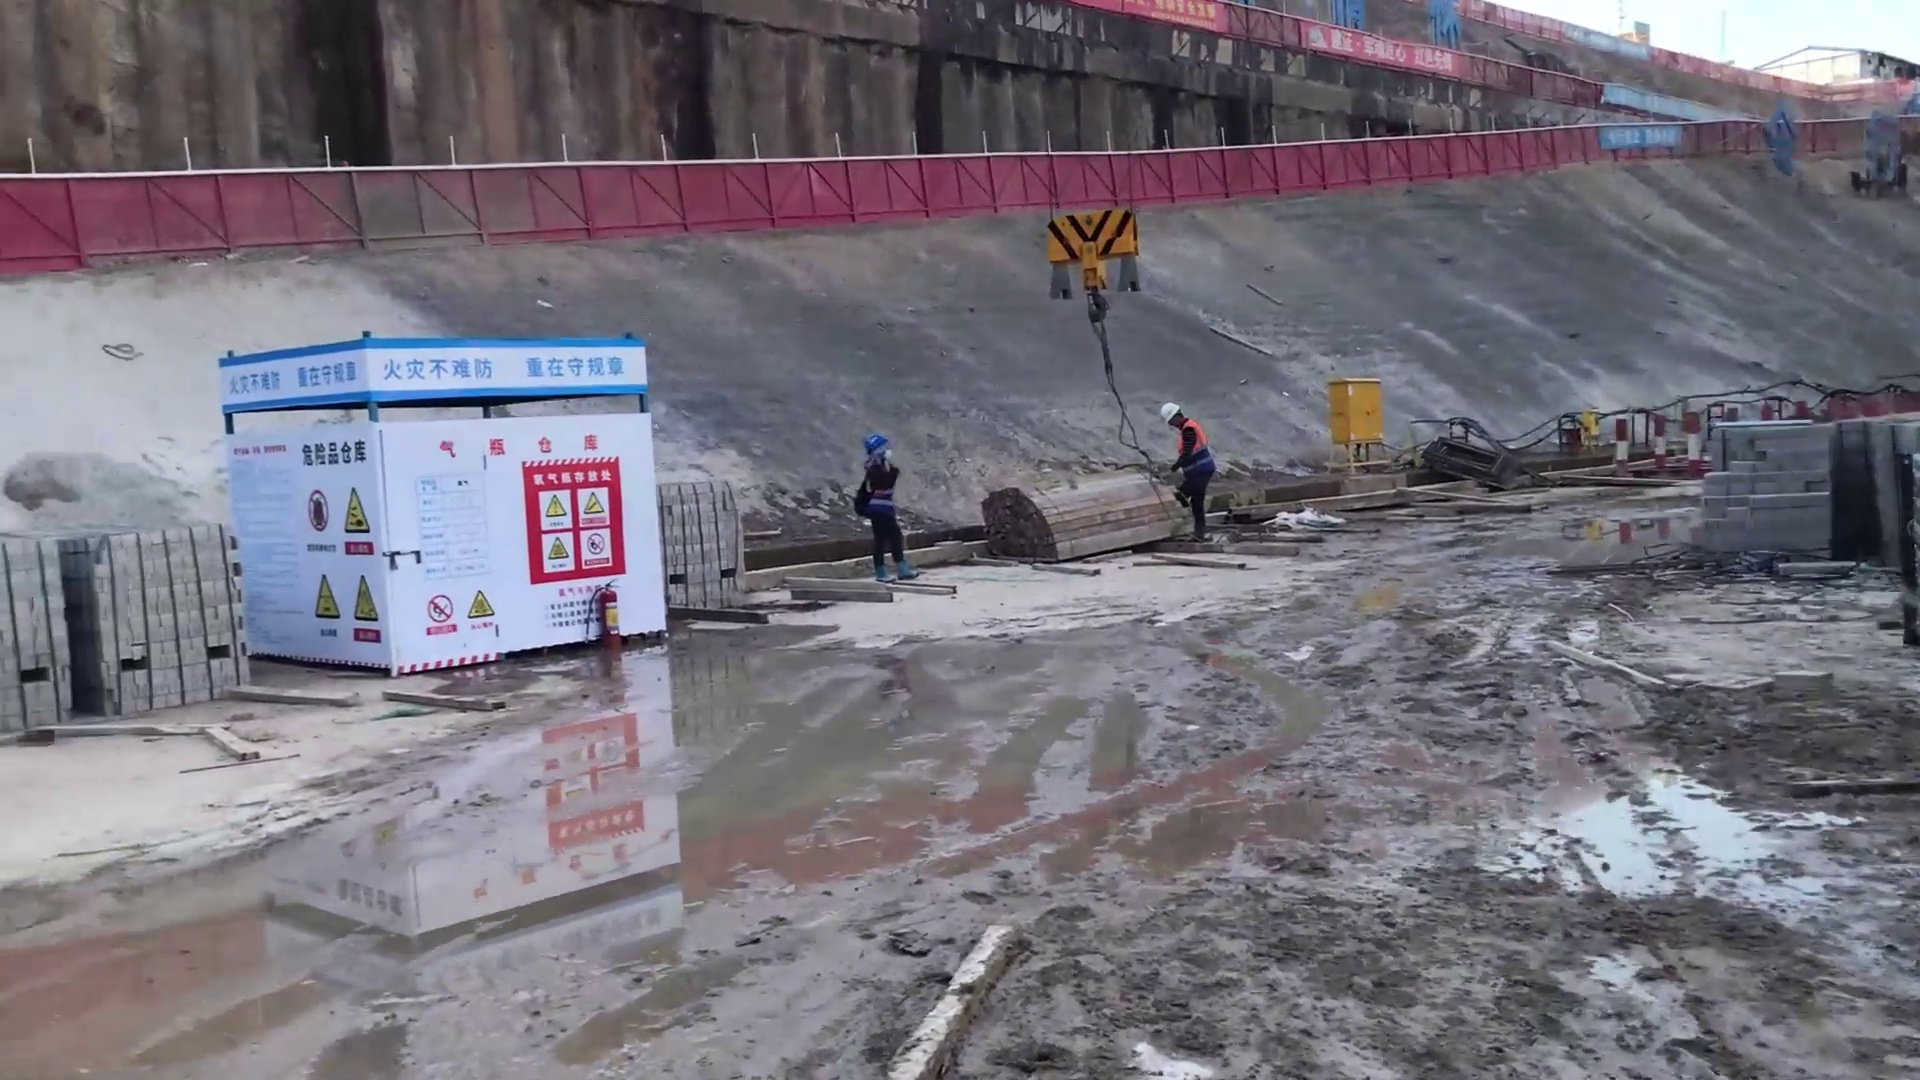brick: (10, 496, 259, 712), (1674, 392, 1920, 564), (652, 474, 754, 619)
ebox: (1326, 380, 1382, 441)
fence: (14, 145, 1543, 242)
helmet: (1156, 398, 1185, 425), (863, 429, 886, 455)
hook: (1041, 207, 1147, 298)
person: (850, 432, 922, 588), (1150, 402, 1219, 546)
slogan: (290, 470, 383, 641), (373, 342, 643, 394), (526, 464, 623, 572), (219, 348, 382, 409), (408, 576, 513, 649)
vest: (856, 461, 896, 517), (1171, 432, 1212, 483)
wood: (979, 476, 1140, 563)
